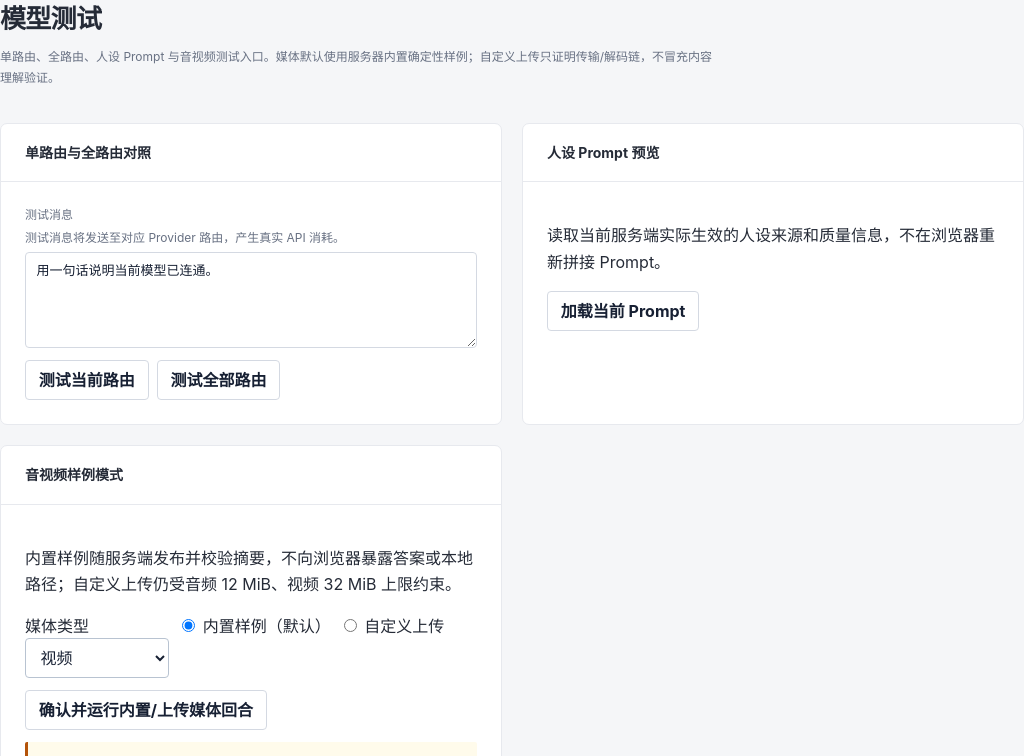
ModelTestsPage › 初始渲染不自动加载人设 Prompt，点击加载后拉取并展示
This screenshot has width=1024, height=756.
What coordinates should you click on to do the following:
click the button "加载当前 Prompt"
I would click on:
 (623, 311)
Its box is [547,291,699,331].
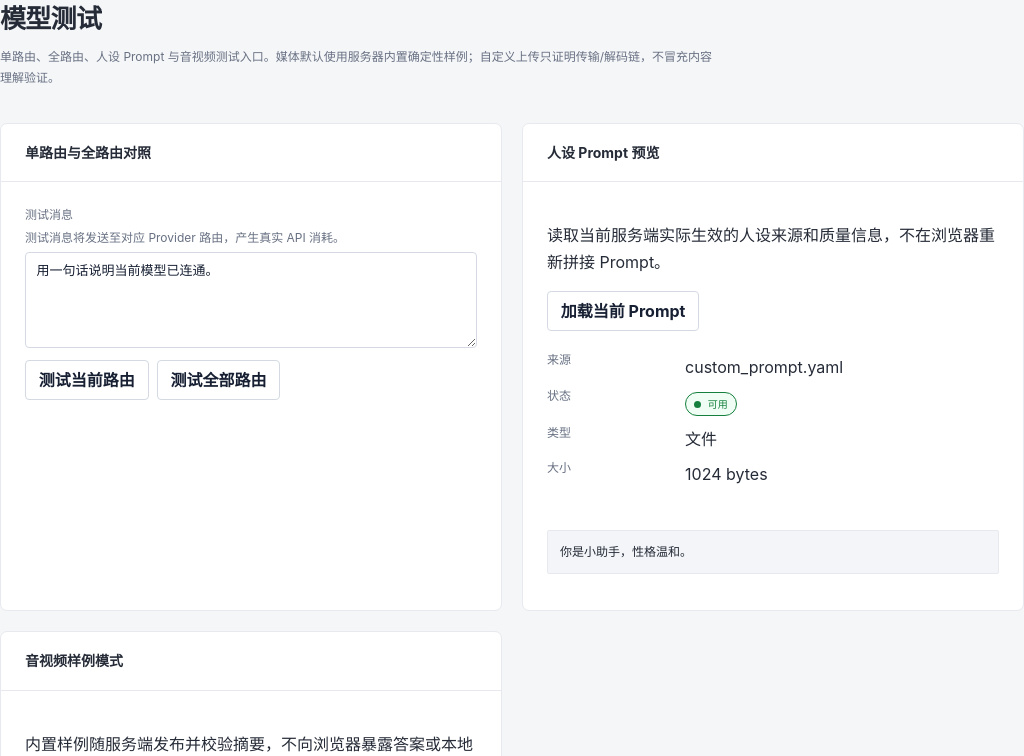
expect the text "custom_prompt.yaml" is shown: met, box [685,356,843,376]
expect the text "你是小助手，性格温和。" is shown: met, box [547,530,999,574]
